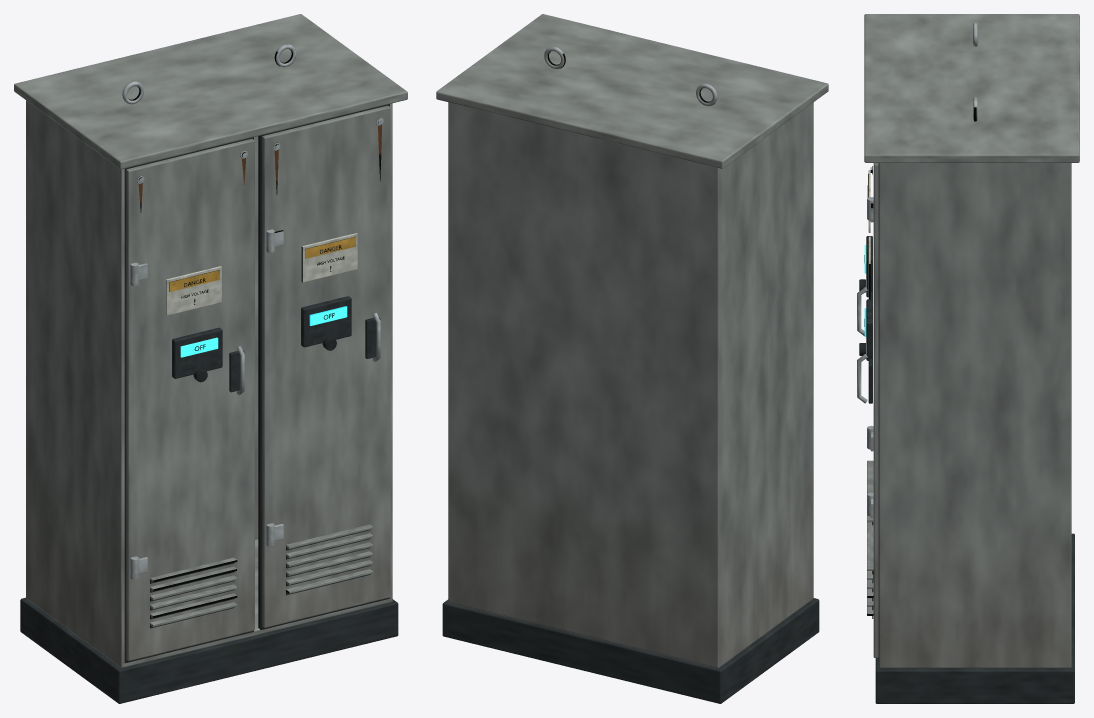
File: GR_Switchgear_01.glb
The picture shows the model from 3 angles, left to right: view 1: azimuth 30°, elevation 25°; view 2: azimuth 150°, elevation 25°; view 3: azimuth 270°, elevation 25°; orthographic projection.
Parts seen in each view (by area): view 1: Static; view 2: Static; view 3: Static.
Part boxes in pixels (left/top/right/bottom): Static: left=14, top=14, right=407, bottom=703; Static: left=436, top=14, right=828, bottom=703; Static: left=857, top=14, right=1079, bottom=703.
Size of the model in its own units: 1.25 by 2.37 by 0.8316.
Materials: 2 (2 with a texture image).
